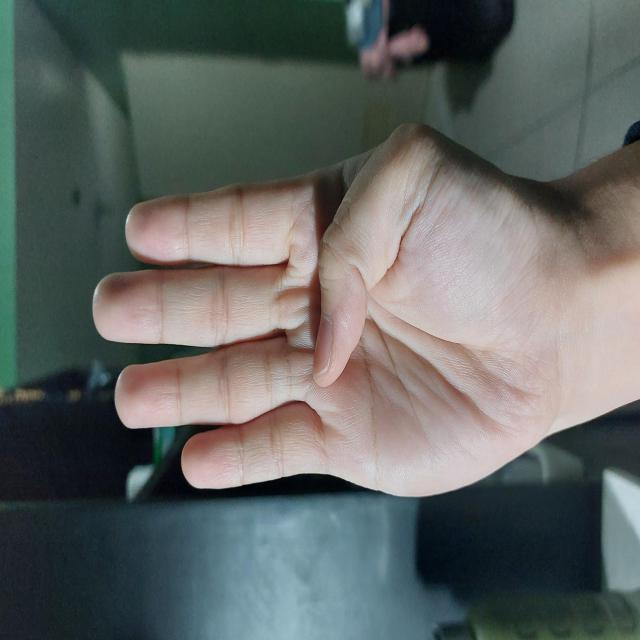B: (142, 92, 518, 562)
